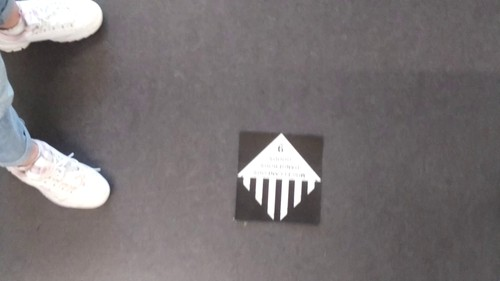misgoods: (239, 134, 327, 219)
